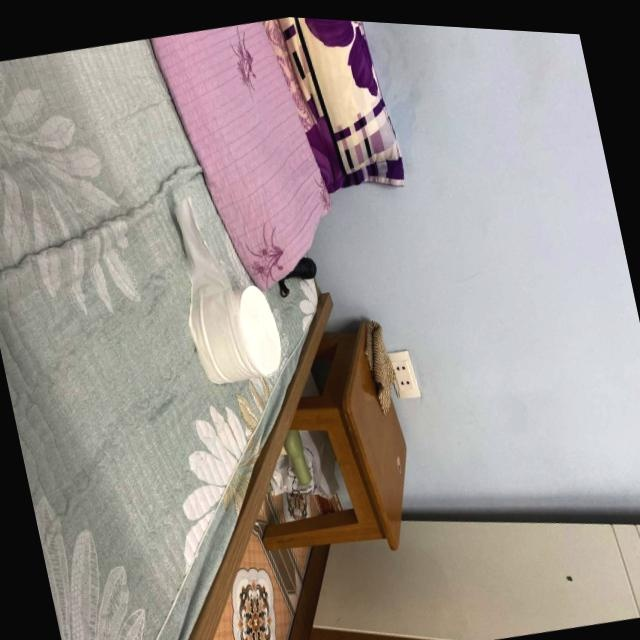outlet: (384, 346, 420, 402)
